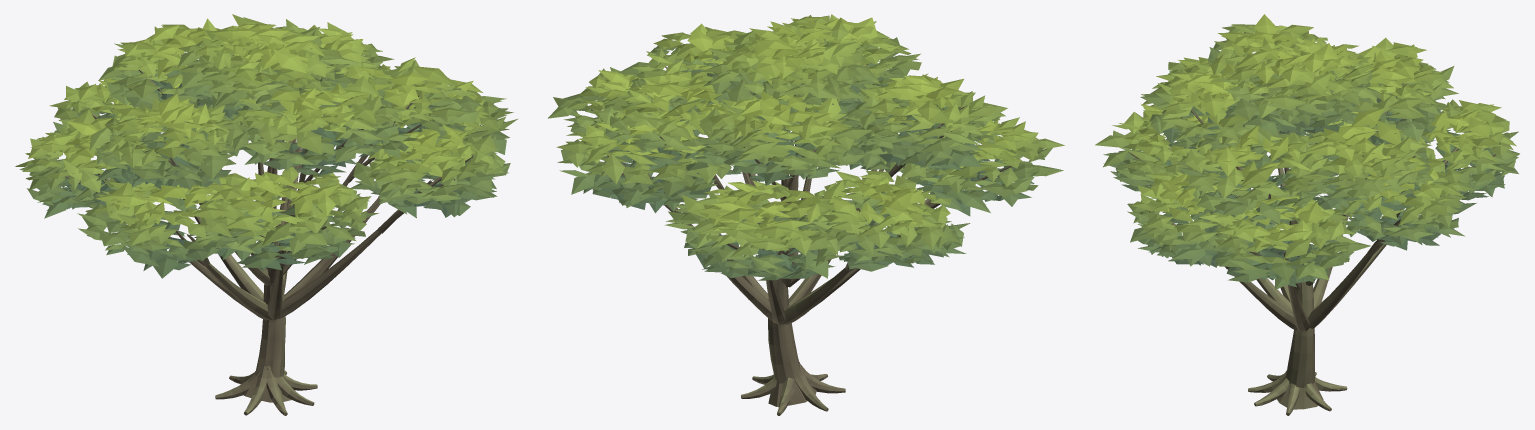
Rendered from 03_Umbrella_Grove.glb.
The picture shows the model from 3 angles, left to right: view 1: azimuth 30°, elevation 25°; view 2: azimuth 150°, elevation 25°; view 3: azimuth 270°, elevation 25°; orthographic projection. The views are drawn at different scales.
Parts seen in each view (by area): view 1: Canopy.002, Trunk.002; view 2: Canopy.002, Trunk.002; view 3: Canopy.002, Trunk.002.
Boxes of the visible parts, left/top/right/bottom form: Canopy.002: left=15, top=14, right=518, bottom=278; Trunk.002: left=65, top=54, right=481, bottom=415; Canopy.002: left=548, top=14, right=1064, bottom=280; Trunk.002: left=591, top=64, right=1011, bottom=415; Canopy.002: left=1095, top=14, right=1519, bottom=289; Trunk.002: left=1130, top=79, right=1496, bottom=415.
Bounding box in the file's own units: 8.69 × 6.59 × 7.34.
